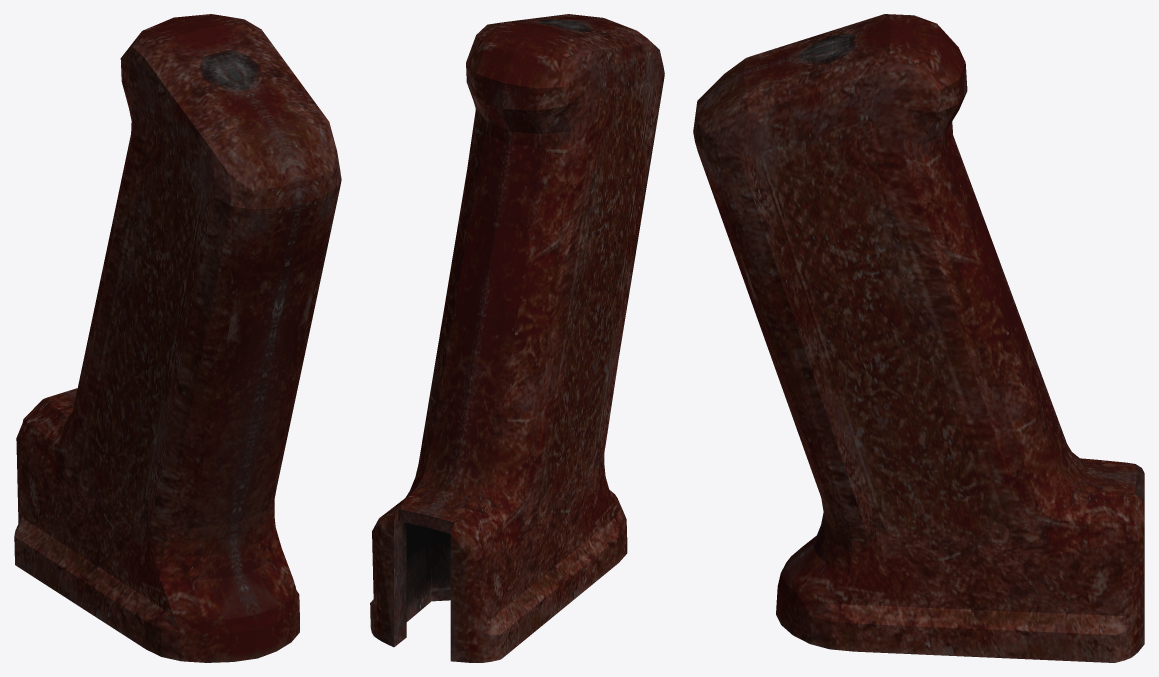
3 renders of one model, left to right at view 1: azimuth 30°, elevation 25°; view 2: azimuth 150°, elevation 25°; view 3: azimuth 270°, elevation 25°, orthographic. The views are drawn at different scales.
Parts seen in each view (by area): view 1: TW_59e6318286f77444dd62c4cc_PZ_Import; view 2: TW_59e6318286f77444dd62c4cc_PZ_Import; view 3: TW_59e6318286f77444dd62c4cc_PZ_Import.
Part boxes in pixels (x1,y1,x2,y2): TW_59e6318286f77444dd62c4cc_PZ_Import: (14, 14, 341, 662); TW_59e6318286f77444dd62c4cc_PZ_Import: (370, 14, 664, 662); TW_59e6318286f77444dd62c4cc_PZ_Import: (693, 14, 1144, 662).
Bounding box in the file's own units: 0.0153 × 0.0416 × 0.0616.
Materials: 1 (1 with a texture image).
